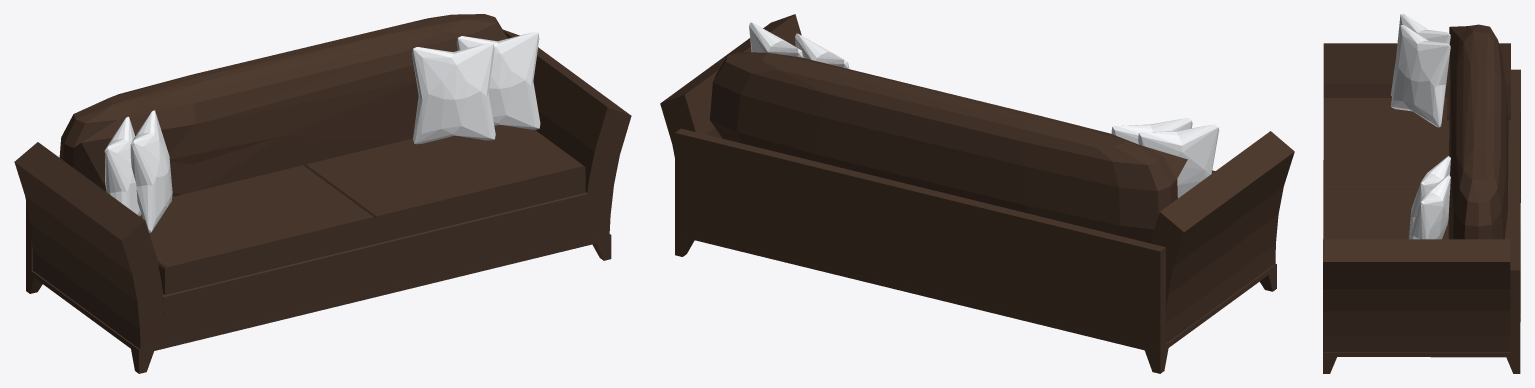
The model's file is Accesories_Sofa_Large.006.glb.
3 views of the same model, side by side, from view 1: azimuth 30°, elevation 25°; view 2: azimuth 150°, elevation 25°; view 3: azimuth 270°, elevation 25° (orthographic). The views are drawn at different scales.
Parts seen in each view (by area): view 1: Accesories_Sofa_Large.006; view 2: Accesories_Sofa_Large.006; view 3: Accesories_Sofa_Large.006.
Boxes of the visible parts, x1,y1,x2,y2 form: Accesories_Sofa_Large.006: (14,14,631,373); Accesories_Sofa_Large.006: (660,14,1294,373); Accesories_Sofa_Large.006: (1323,14,1520,373).
Size of the model in its own units: 2.38 by 0.8714 by 0.9176.
Materials: 1 (1 with a texture image).
